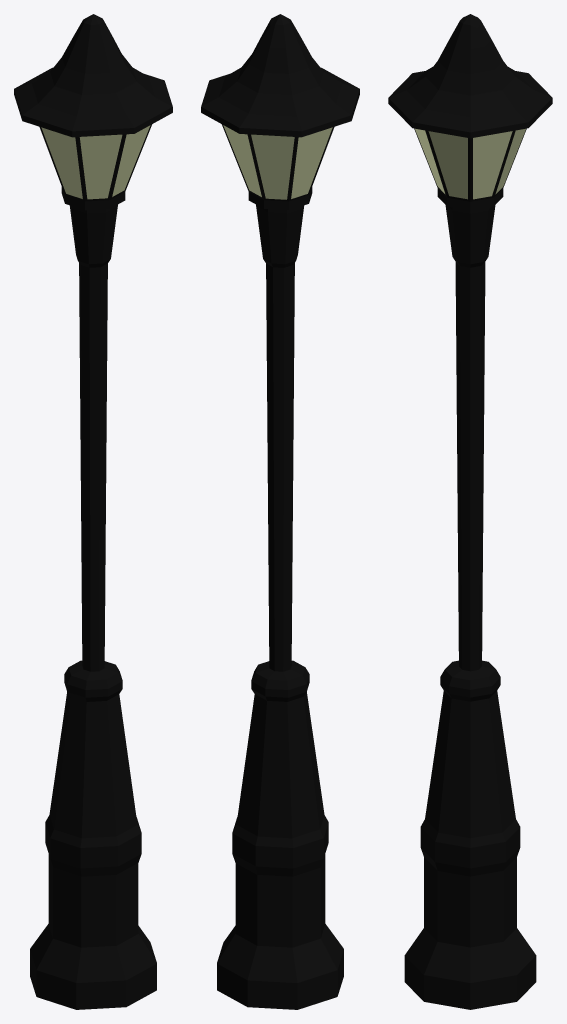
File: lamp.fbx
3 views of the same model, side by side, from view 1: azimuth 30°, elevation 25°; view 2: azimuth 150°, elevation 25°; view 3: azimuth 270°, elevation 25° (orthographic).
Visible parts, largest first — view 1: lamp; view 2: lamp; view 3: lamp.
Boxes of the visible parts, x1,y1,x2,y2 form: lamp: (14, 14, 172, 1009); lamp: (201, 14, 359, 1009); lamp: (388, 14, 552, 1009).
Bounding box in the file's own units: 20.98 × 136 × 20.98.
